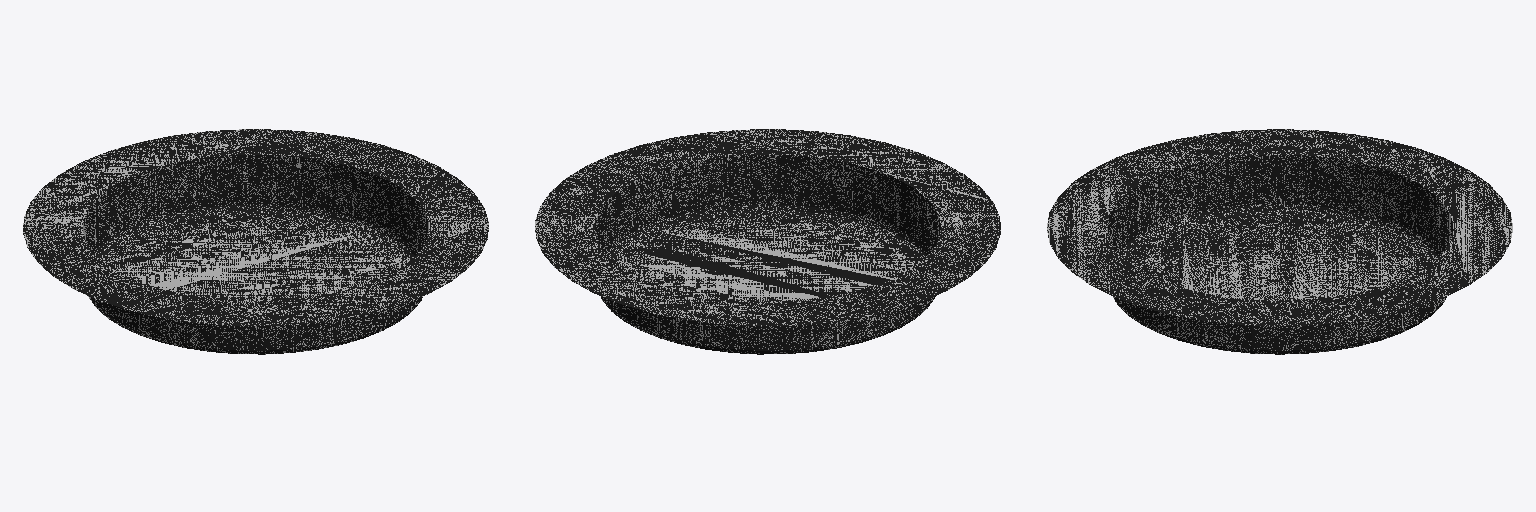
File: original-6.obj
3 views of the same model, side by side, from view 1: azimuth 30°, elevation 25°; view 2: azimuth 150°, elevation 25°; view 3: azimuth 270°, elevation 25° (orthographic).
Visible parts, largest first — view 1: mesh3/mesh3-geometry#mesh3-geometry; view 2: mesh3/mesh3-geometry#mesh3-geometry; view 3: mesh3/mesh3-geometry#mesh3-geometry.
Part boxes in pixels (bbox=[...]): mesh3/mesh3-geometry#mesh3-geometry: bbox=[23, 129, 488, 354]; mesh3/mesh3-geometry#mesh3-geometry: bbox=[535, 129, 1000, 354]; mesh3/mesh3-geometry#mesh3-geometry: bbox=[1047, 129, 1512, 354].
Size of the model in its own units: 0.405 by 0.0542 by 0.405.